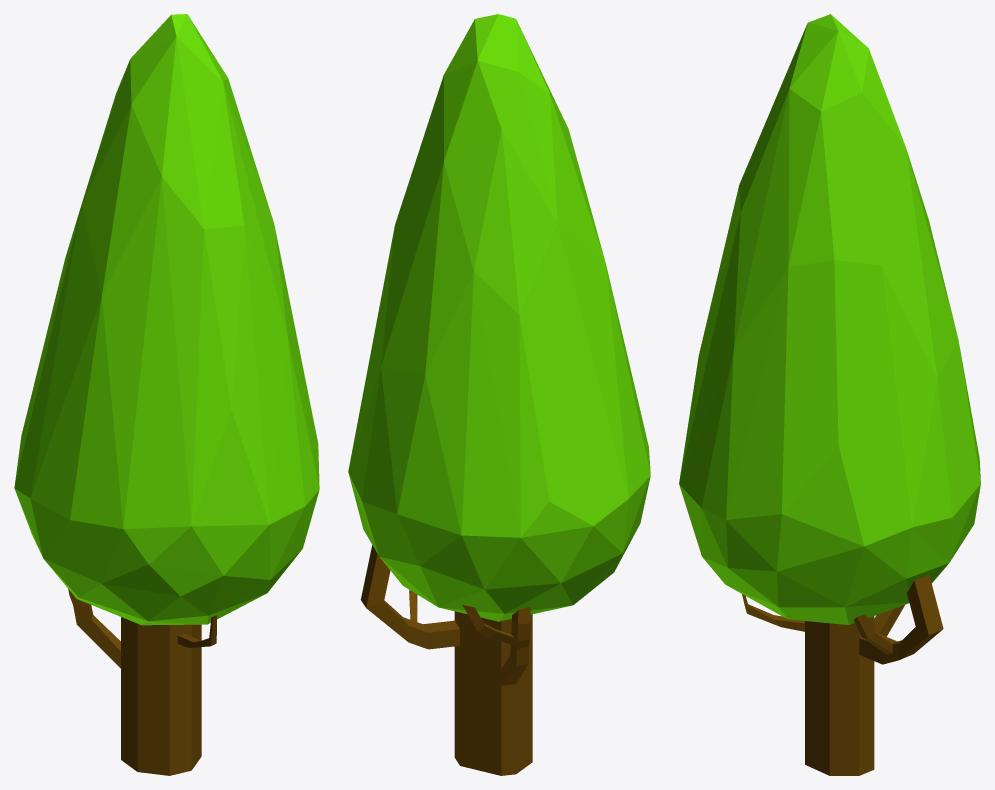
Rendered from Boulbus_Tree_2.fbx.
3 renders of one model, left to right at view 1: azimuth 30°, elevation 25°; view 2: azimuth 150°, elevation 25°; view 3: azimuth 270°, elevation 25°, orthographic.
Parts seen in each view (by area): view 1: Boulbus Tree 2; view 2: Boulbus Tree 2; view 3: Boulbus Tree 2.
Boxes of the visible parts, bbox=[...] form: Boulbus Tree 2: bbox=[14, 14, 319, 775]; Boulbus Tree 2: bbox=[348, 14, 650, 775]; Boulbus Tree 2: bbox=[679, 14, 980, 775].
Bounding box in the file's own units: 167 × 453 × 166.
